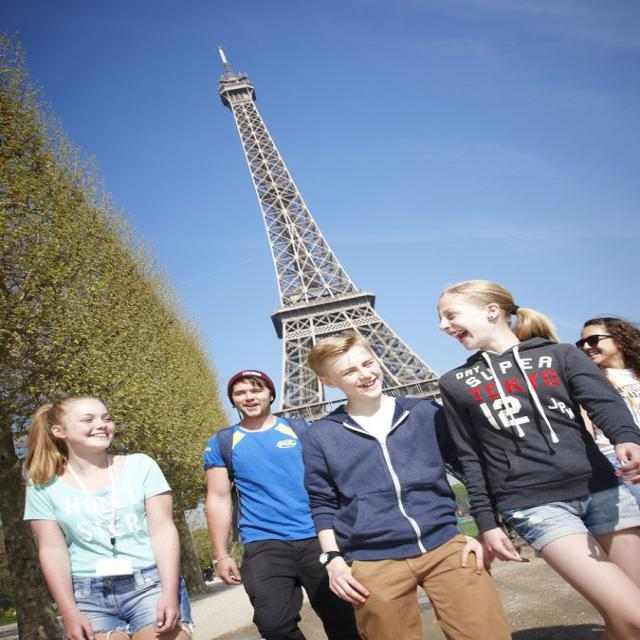body: (432, 277, 639, 639), (300, 336, 505, 638), (13, 392, 197, 640), (201, 369, 357, 640), (571, 314, 640, 501)
